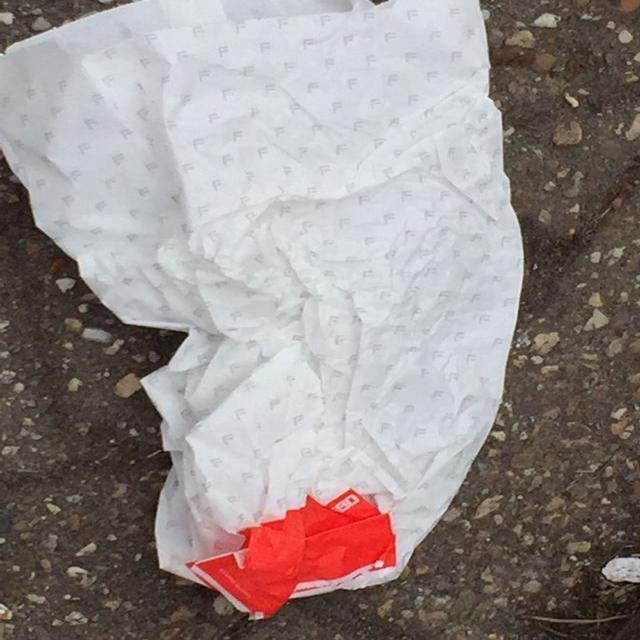Paper: (0, 0, 525, 623)
